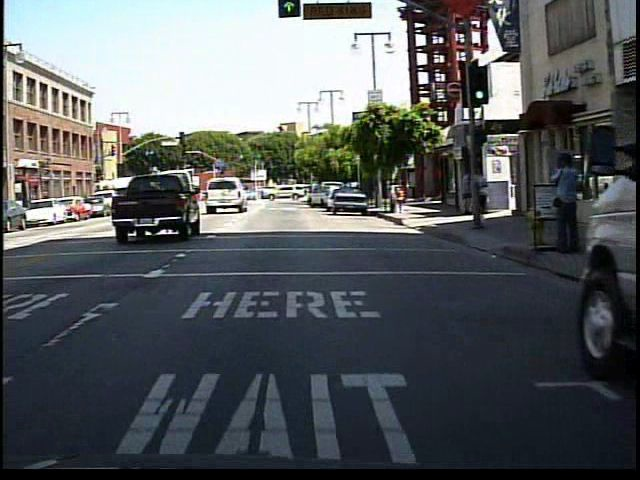person: (468, 162, 492, 229), (461, 169, 475, 216)
